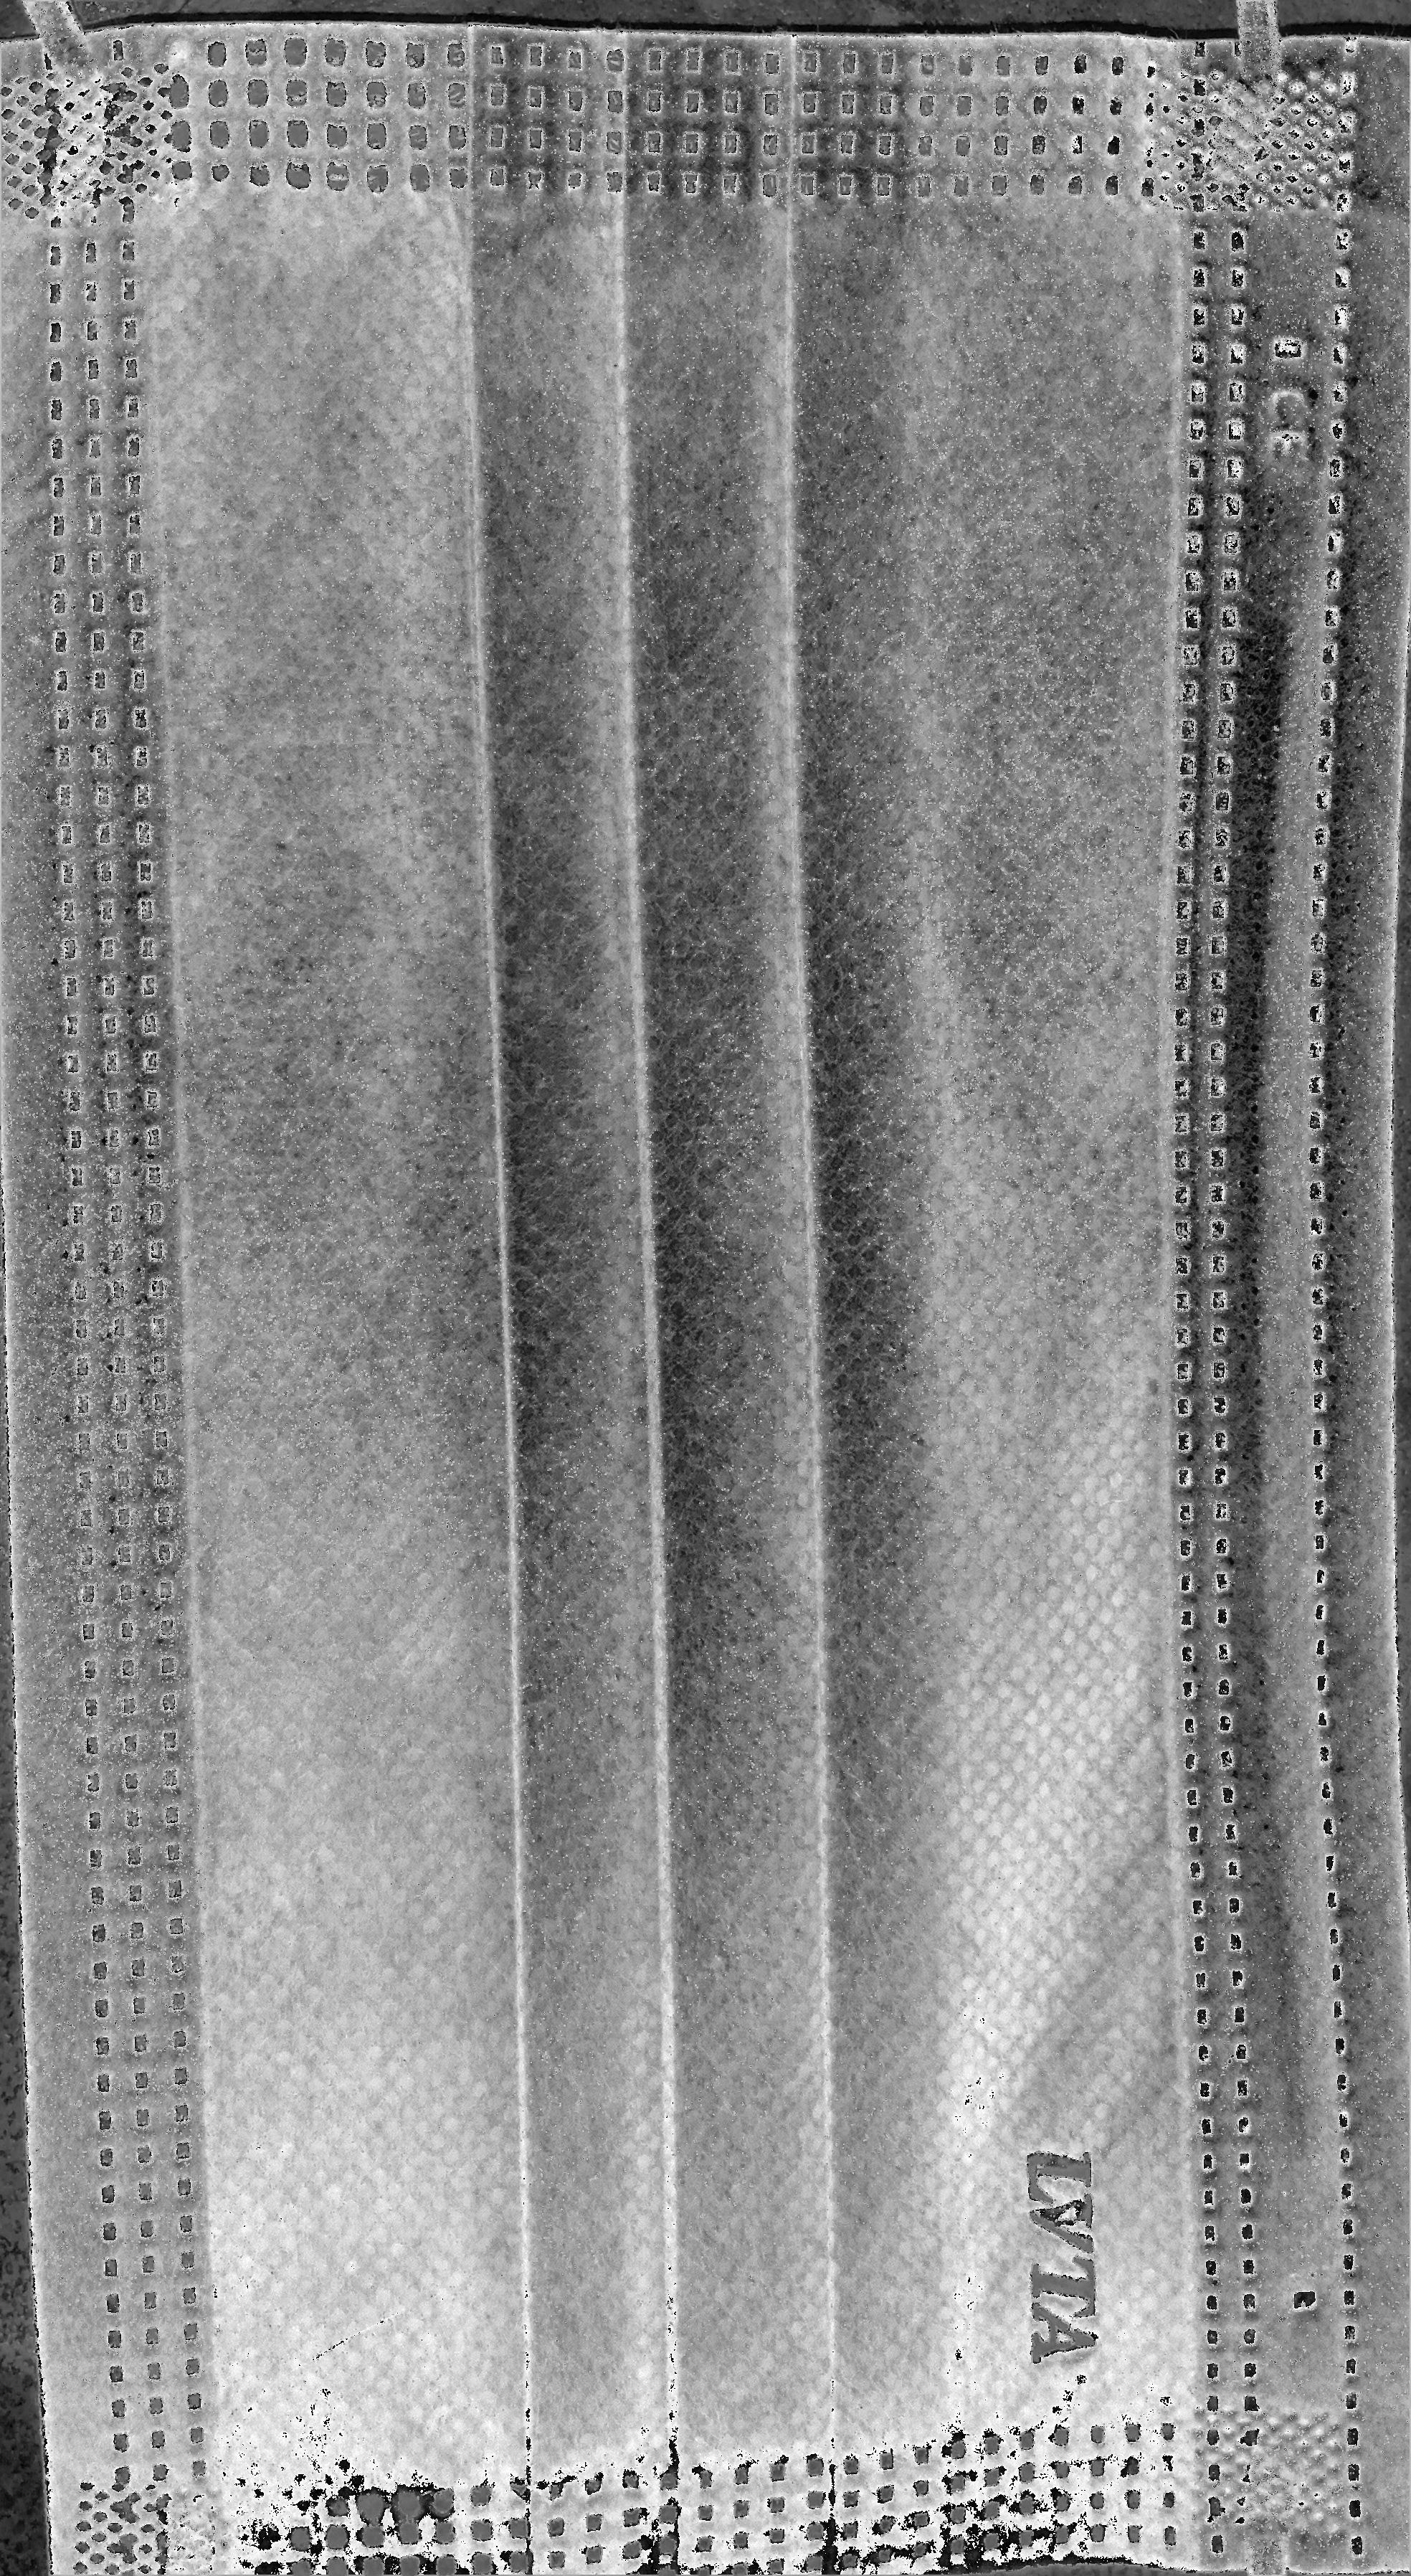High GSM: (221, 228, 1142, 2456)
